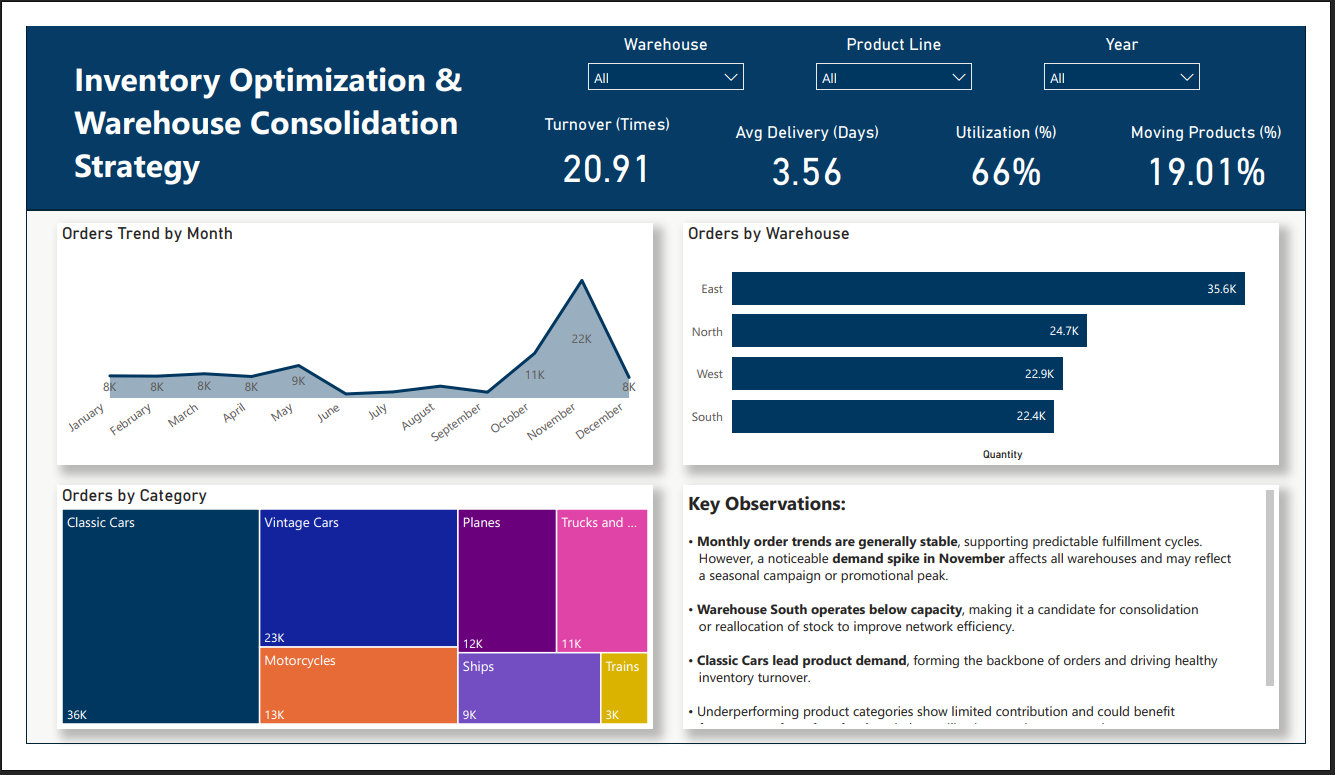

Layout of this report page (visuals, bound fields, positions):
{"tool":"powerbi","page":{"name":" Executive Overview","canvas":[1280,720],"ordinal":0},"visuals":[{"type":"card","title":"Turnover (Times)","fields":{"Values":["DAX-Measures.InventoryTurnover"]},"box":[487.8,87.8,186.7,80],"z":0},{"type":"card","title":" Avg Delivery (Days)","fields":{"Values":["DAX-Measures.AvgDeliveryDaysByWarehouse"]},"box":[696.7,96,168,72],"z":1000},{"type":"card","title":"Moving Products (%)","fields":{"Values":["DAX-Measures.MovingStockPct"]},"box":[1096,96,168,72],"z":2000},{"type":"card","title":"Utilization (%)","fields":{"Values":["DAX-Measures.AvgWarehouseUtilization"]},"box":[887.3,96,186,72],"z":3000},{"type":"slicer","title":"Year","fields":{"Values":["order.Year"]},"box":[1008,8,176,72],"z":4000},{"type":"stackedAreaChart","title":"Orders Trend by Month","fields":{"Category":["order.orderDate.Variation.Date Hierarchy.Year","order.orderDate.Variation.Date Hierarchy.Quarter","order.orderDate.Variation.Date Hierarchy.Month","order.orderDate.Variation.Date Hierarchy.Day"],"Y":["Sum(orderdetails.quantityOrdered)"]},"box":[31.1,196.7,595.6,242.2],"z":5000},{"type":"barChart","title":"Orders by Warehouse","fields":{"Category":["warehouses.warehouseName"],"Y":["Sum(orderdetails.quantityOrdered)"]},"box":[656.7,196.7,596.7,242.2],"z":6000},{"type":"treemap","title":"Orders by Category  ","fields":{"Group":["productlines.productLine"],"Values":["Sum(orderdetails.quantityOrdered)"]},"box":[31.1,458.9,595.6,244.4],"z":7000},{"type":"slicer","title":"Warehouse","fields":{"Values":["warehouses.warehouseName"]},"box":[552,8,176,72],"z":8000},{"type":"slicer","title":"Product Line","fields":{"Values":["productlines.productLine"]},"box":[780,8,176,72],"z":9000},{"type":"textbox","box":[42.7,8,436.7,160],"z":10000},{"type":"textbox","box":[656.7,458.9,596.7,244.4],"z":11000}]}

Visuals, with their boxes on the page's 1280x720 design canvas (x1, y1, x2, y2). These are canvas units, not pixel positions in the 1335x775 screenshot, which may show the page scaled, cropped or inside an application window:
"Turnover (Times)" card: <box>488,88,674,168</box>
" Avg Delivery (Days)" card: <box>697,96,865,168</box>
"Moving Products (%)" card: <box>1096,96,1264,168</box>
"Utilization (%)" card: <box>887,96,1073,168</box>
"Year" slicer: <box>1008,8,1184,80</box>
"Orders Trend by Month" stackedAreaChart: <box>31,197,627,439</box>
"Orders by Warehouse" barChart: <box>657,197,1253,439</box>
"Orders by Category  " treemap: <box>31,459,627,703</box>
"Warehouse" slicer: <box>552,8,728,80</box>
"Product Line" slicer: <box>780,8,956,80</box>
textbox: <box>43,8,479,168</box>
textbox: <box>657,459,1253,703</box>
